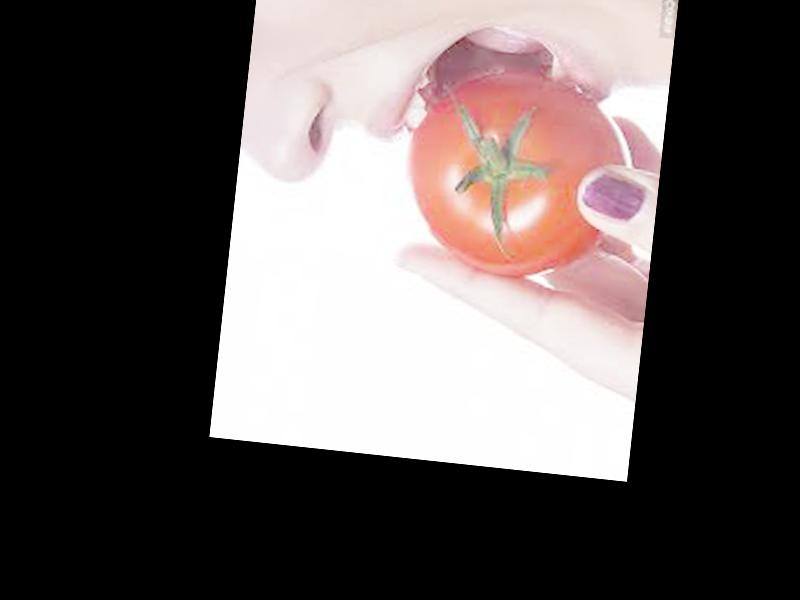Tomato: (397, 63, 639, 289)
